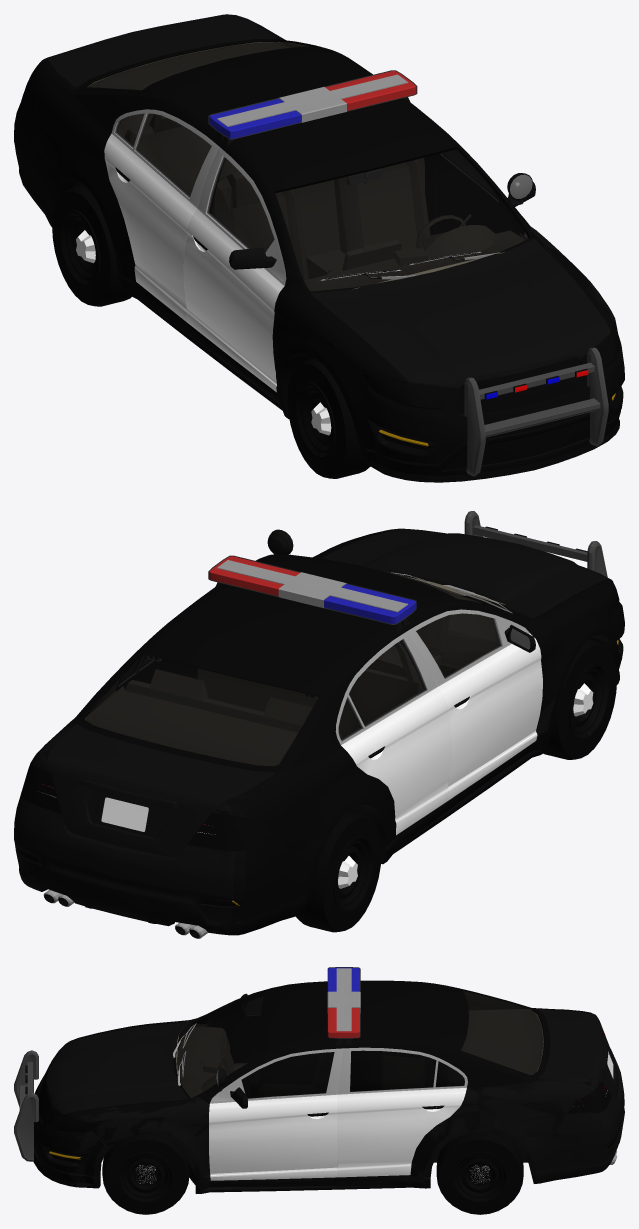
The model's file is copsCar.fbx.
The picture shows the model from 3 angles, top to bottom: view 1: azimuth 30°, elevation 25°; view 2: azimuth 150°, elevation 25°; view 3: azimuth 270°, elevation 25°; orthographic projection. The views are drawn at different scales.
Parts seen in each view (by area): view 1: Body, Hood, Glass_Front, Door_Front_R, Door_Back_R, Wheel_FL, Trunkdoor, Wheel_BL, Doorglass_Front_R, Door_Front_L, Doorglass_Front_R.001, Glass_Back; view 2: Body, Trunkdoor, Glass_Back, Door_Front_R, Hood, Door_Back_R, Wheel_BL, Wheel_FL, Doorglass_Front_R, Doorglass_Front_R.001, Door_Back_L, Exhaust; view 3: Body, Door_Front_L, Hood, Door_Back_L, Wheel_BR, Glass_Front, Wheel_FR, Glass_Back, Trunkdoor, Doorglass_Back_L, Doorglass_Front_L, Door_Front_R.
Boxes of the visible parts, x1,y1,x2,y2 form: Body: (14,14,624,482); Hood: (310,238,610,388); Glass_Front: (275,148,529,291); Door_Front_R: (183,147,286,392); Door_Back_R: (104,109,219,321); Wheel_FL: (287,358,370,478); Trunkdoor: (48,15,275,87); Wheel_BL: (52,184,131,306); Doorglass_Front_R: (115,113,211,197); Door_Front_L: (438,154,535,236); Doorglass_Front_R.001: (207,157,274,252); Glass_Back: (85,40,314,90); Body: (14,511,624,935); Trunkdoor: (48,724,275,856); Glass_Back: (85,653,318,766); Door_Front_R: (407,609,542,800); Hood: (321,529,609,618); Door_Back_R: (335,631,451,835); Wheel_BL: (296,810,381,932); Wheel_FL: (543,639,616,759); Doorglass_Front_R: (338,639,426,740); Doorglass_Front_R.001: (416,613,501,678); Door_Back_L: (116,655,196,690); Exhaust: (43,890,208,938); Body: (14,967,624,1193); Door_Front_L: (209,1048,342,1180); Hood: (45,1021,189,1115); Door_Back_L: (337,1047,467,1177); Wheel_BR: (436,1131,523,1214); Glass_Front: (176,991,268,1098); Wheel_FR: (102,1134,189,1214); Glass_Back: (461,990,544,1074); Trunkdoor: (538,1009,618,1100); Doorglass_Back_L: (350,1050,464,1091); Doorglass_Front_L: (241,1052,334,1098); Door_Front_R: (210,993,267,1062).
Bounding box in the file's own units: 2.45 × 1.85 × 6.01.
